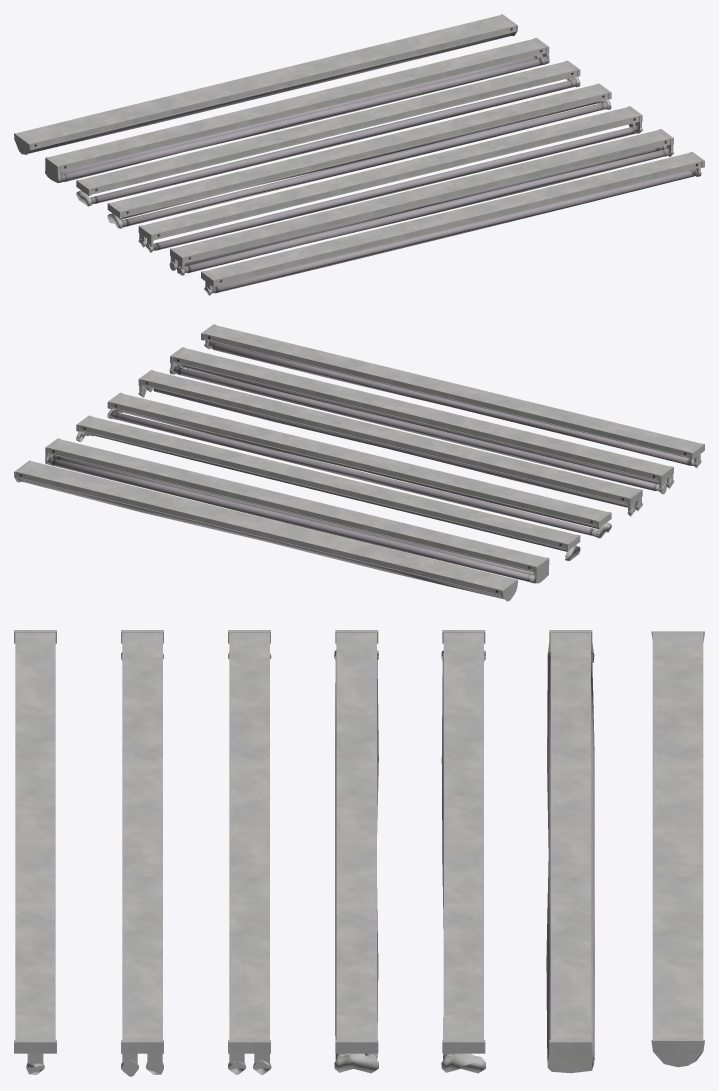
Rendered from mounted_fluorescent_lights.glb.
3 renders of one model, top to bottom at view 1: azimuth 30°, elevation 25°; view 2: azimuth 150°, elevation 25°; view 3: azimuth 270°, elevation 25°, orthographic. The views are drawn at different scales.
Visible parts, largest first — view 1: mounted_fluorescent_lights_f, mounted_fluorescent_lights_b, mounted_fluorescent_lights_d, mounted_fluorescent_lights_e, mounted_fluorescent_lights_c, mounted_fluorescent_lights_a, mounted_fluorescent_lights_g; view 2: mounted_fluorescent_lights_b, mounted_fluorescent_lights_f, mounted_fluorescent_lights_d, mounted_fluorescent_lights_a, mounted_fluorescent_lights_g, mounted_fluorescent_lights_c, mounted_fluorescent_lights_e; view 3: mounted_fluorescent_lights_g, mounted_fluorescent_lights_f, mounted_fluorescent_lights_d, mounted_fluorescent_lights_e, mounted_fluorescent_lights_b, mounted_fluorescent_lights_c, mounted_fluorescent_lights_a.
Boxes of the visible parts, x1,y1,x2,y2 form: mounted_fluorescent_lights_f: (45,37,549,182); mounted_fluorescent_lights_b: (169,129,673,275); mounted_fluorescent_lights_d: (107,83,611,228); mounted_fluorescent_lights_e: (76,60,580,206); mounted_fluorescent_lights_c: (138,106,642,252); mounted_fluorescent_lights_a: (201,151,704,295); mounted_fluorescent_lights_g: (14,14,517,155); mounted_fluorescent_lights_b: (169,347,674,494); mounted_fluorescent_lights_f: (45,438,549,583); mounted_fluorescent_lights_d: (107,392,611,538); mounted_fluorescent_lights_a: (201,324,704,468); mounted_fluorescent_lights_g: (14,460,517,601); mounted_fluorescent_lights_c: (138,370,642,516); mounted_fluorescent_lights_e: (76,415,580,561); mounted_fluorescent_lights_g: (651,631,704,1067); mounted_fluorescent_lights_f: (546,630,594,1073); mounted_fluorescent_lights_d: (334,630,378,1073); mounted_fluorescent_lights_e: (441,630,485,1073); mounted_fluorescent_lights_b: (121,630,163,1076); mounted_fluorescent_lights_c: (228,630,271,1074); mounted_fluorescent_lights_a: (14,630,56,1074).
Size of the model in its own units: 0.9122 by 0.0354 by 0.6454.
2 materials, 2 textured.
